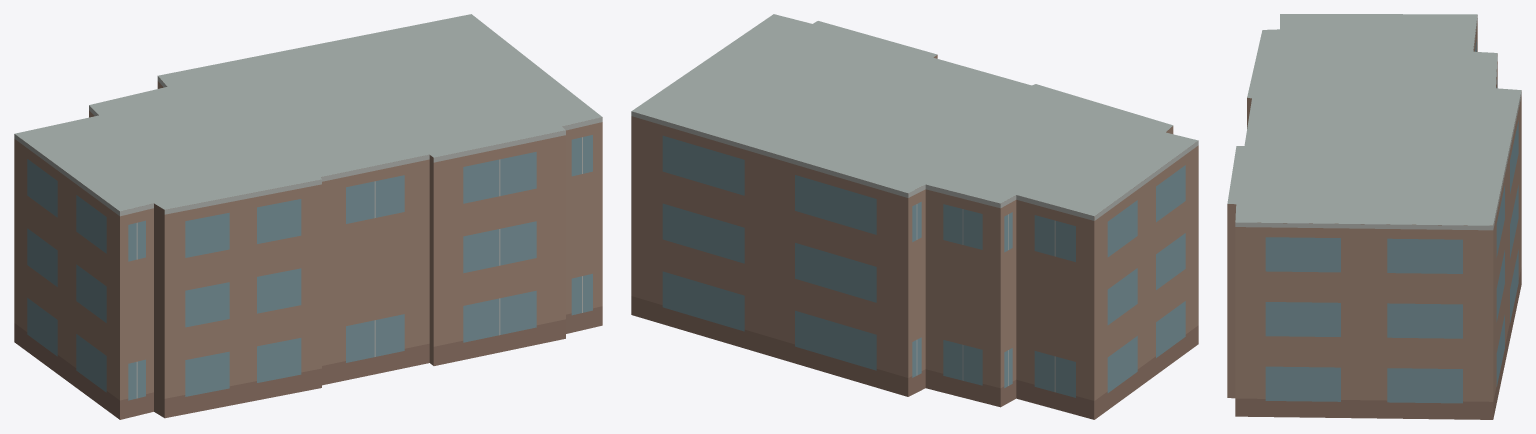
File: survey-upis-32525304.glb
The picture shows the model from 3 angles, left to right: view 1: azimuth 30°, elevation 25°; view 2: azimuth 150°, elevation 25°; view 3: azimuth 270°, elevation 25°; orthographic projection. The views are drawn at different scales.
Parts seen in each view (by area): view 1: survey-upis-32525304.tmp; view 2: survey-upis-32525304.tmp; view 3: survey-upis-32525304.tmp.
Boxes of the visible parts, left/top/right/bottom form: survey-upis-32525304.tmp: left=14, top=14, right=602, bottom=419; survey-upis-32525304.tmp: left=631, top=14, right=1198, bottom=419; survey-upis-32525304.tmp: left=1227, top=14, right=1521, bottom=419.
Size of the model in its own units: 24.34 by 10.4 by 14.3.
